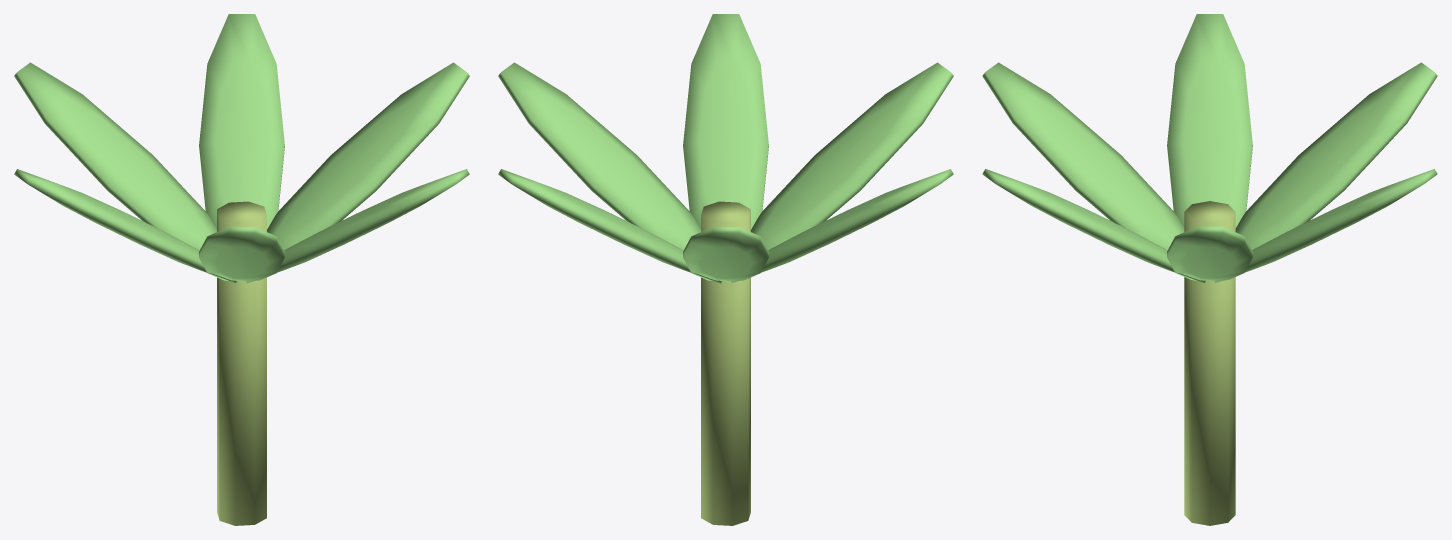
Rendered from Prop_Banana.fbx.
3 renders of one model, left to right at view 1: azimuth 30°, elevation 25°; view 2: azimuth 150°, elevation 25°; view 3: azimuth 270°, elevation 25°, orthographic.
Parts seen in each view (by area): view 1: Prop_Banana; view 2: Prop_Banana; view 3: Prop_Banana.
Part boxes in pixels (left/top/right/bottom): Prop_Banana: left=14, top=14, right=469, bottom=525; Prop_Banana: left=498, top=14, right=953, bottom=525; Prop_Banana: left=982, top=14, right=1437, bottom=525.
Bounding box in the file's own units: 3.97 × 3.38 × 3.54.
